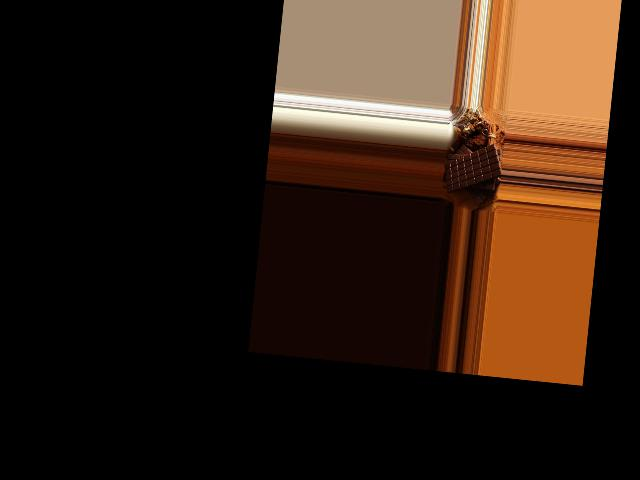chocolate: (443, 136, 504, 198)
